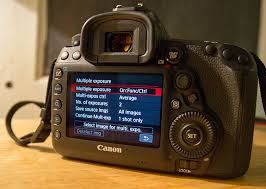camera: (51, 12, 256, 176)
